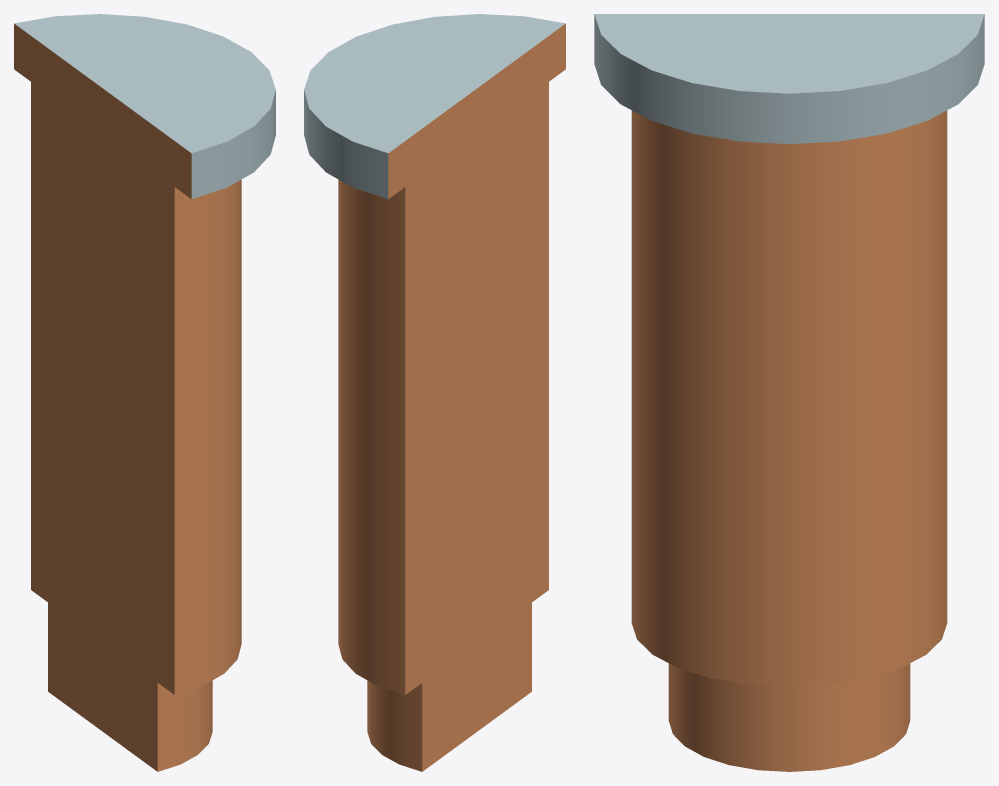
Rendered from kitchen_bar_end.obj.
3 views of the same model, side by side, from view 1: azimuth 30°, elevation 25°; view 2: azimuth 150°, elevation 25°; view 3: azimuth 270°, elevation 25° (orthographic). The views are drawn at different scales.
Parts seen in each view (by area): view 1: kitchenBarEnd:kitchenBarEnd; view 2: kitchenBarEnd:kitchenBarEnd; view 3: kitchenBarEnd:kitchenBarEnd.
Boxes of the visible parts, x1=… form: kitchenBarEnd:kitchenBarEnd: x1=14, y1=14, x2=275, y2=771; kitchenBarEnd:kitchenBarEnd: x1=304, y1=14, x2=565, y2=771; kitchenBarEnd:kitchenBarEnd: x1=594, y1=14, x2=984, y2=771.
Size of the model in its own units: 0.1016 by 0.42 by 0.21.
